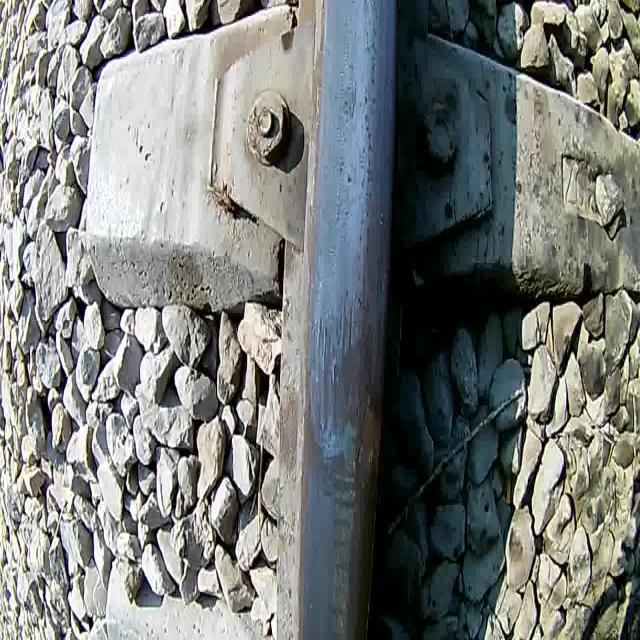Squats: (300, 289, 387, 496)
